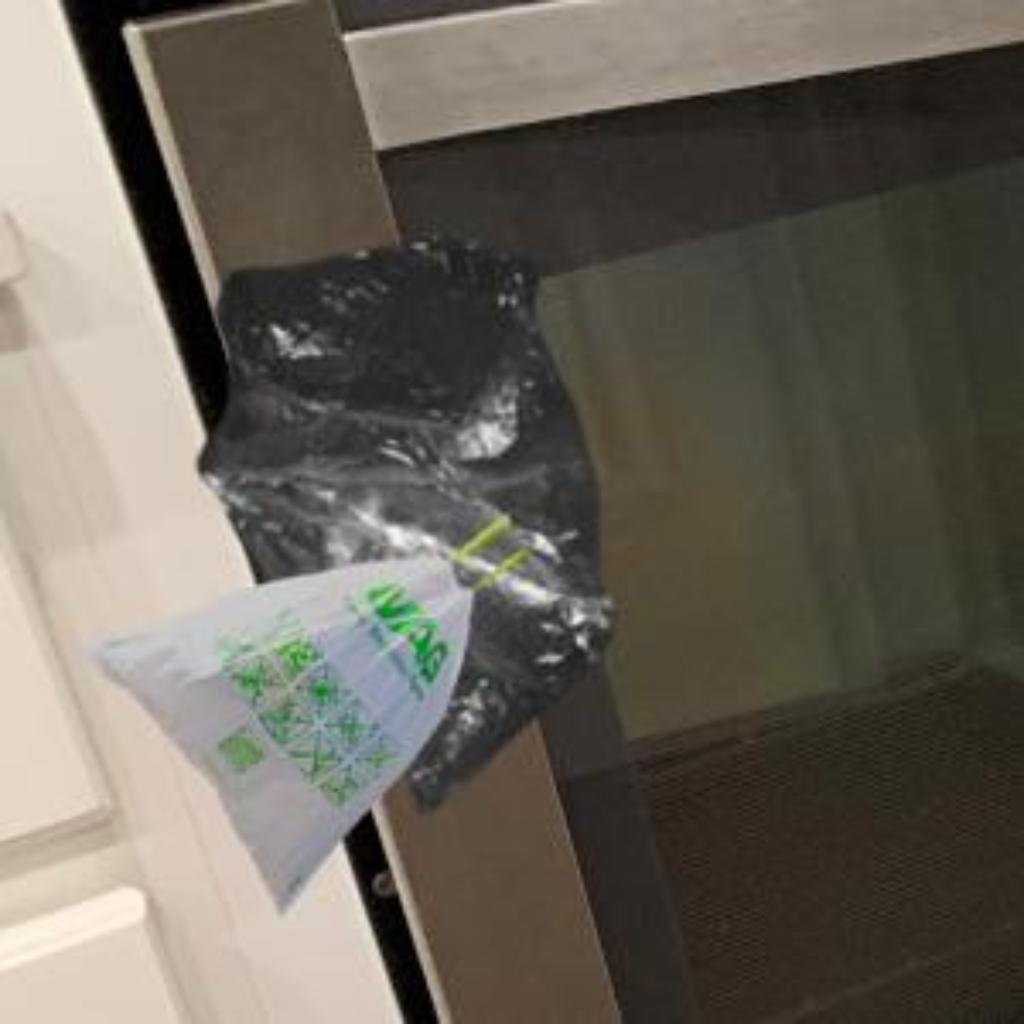garbage: (205, 251, 652, 749), (97, 500, 592, 940)
